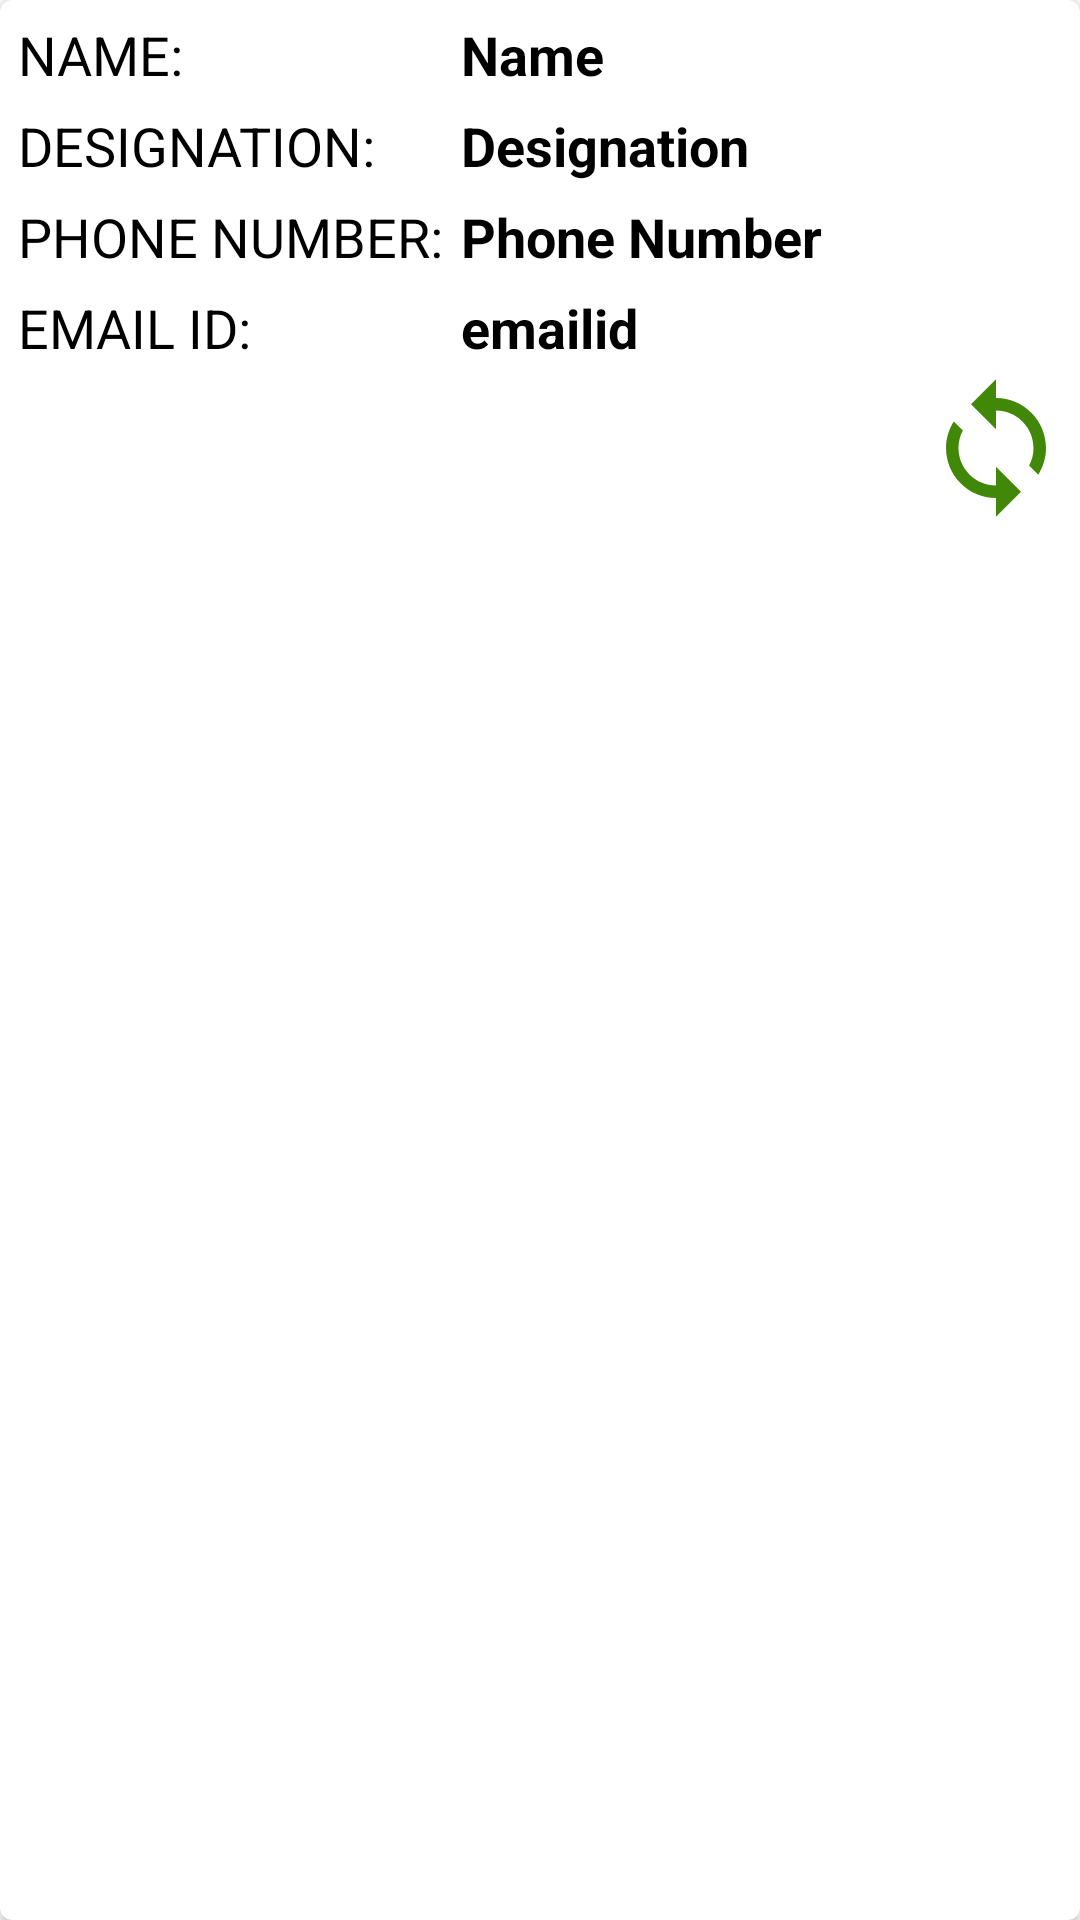

Screen size 1080×1920. Icon name, then its box in pixels as {"x1": x1, "y1": y1, "x2": x2, "y2": y2}:
sync: {"x1": 946, "y1": 379, "x2": 1046, "y2": 517}
